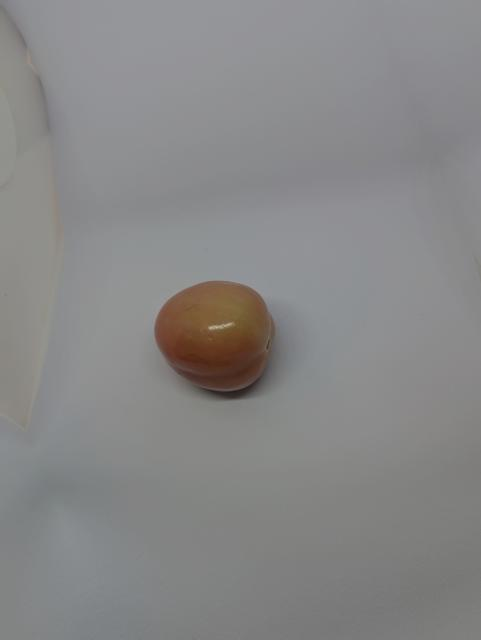turning: (144, 263, 280, 402)
